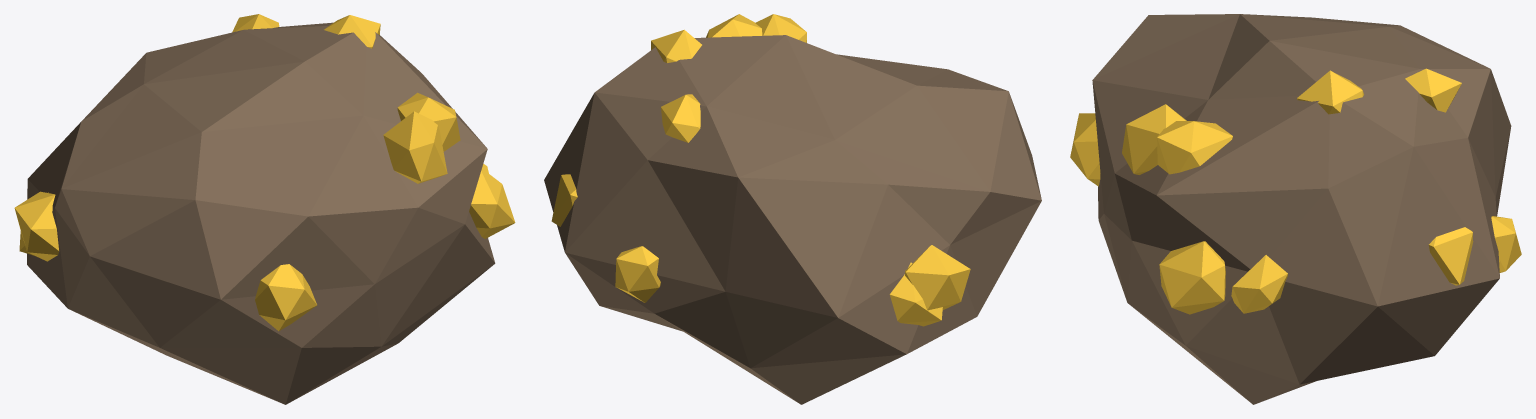
Rendered from ore_gold.glb.
The picture shows the model from 3 angles, left to right: view 1: azimuth 30°, elevation 25°; view 2: azimuth 150°, elevation 25°; view 3: azimuth 270°, elevation 25°; orthographic projection. The views are drawn at different scales.
Parts seen in each view (by area): view 1: ore_gold; view 2: ore_gold; view 3: ore_gold.
Boxes of the visible parts, bbox=[...] form: ore_gold: bbox=[14, 14, 515, 404]; ore_gold: bbox=[544, 14, 1041, 404]; ore_gold: bbox=[1070, 14, 1521, 404].
Size of the model in its own units: 1.39 by 1.05 by 1.19.
